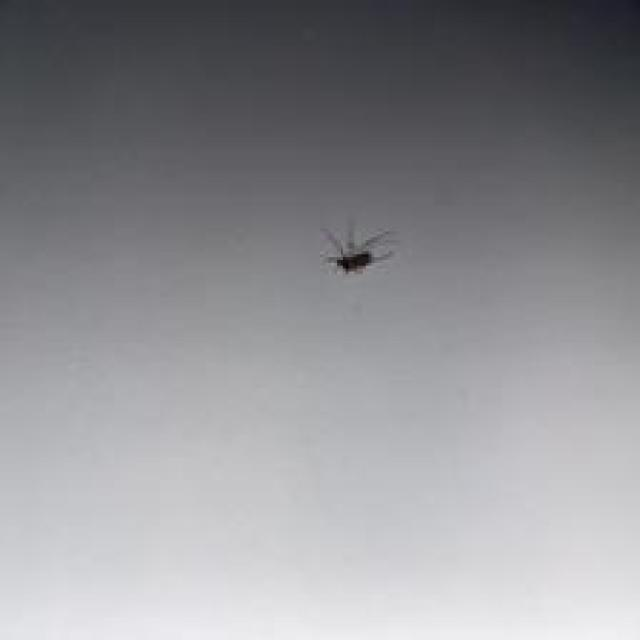Culex: (318, 216, 396, 276)
